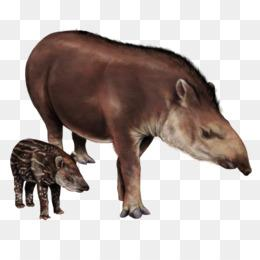Anta: (23, 28, 257, 222), (2, 132, 93, 224)
